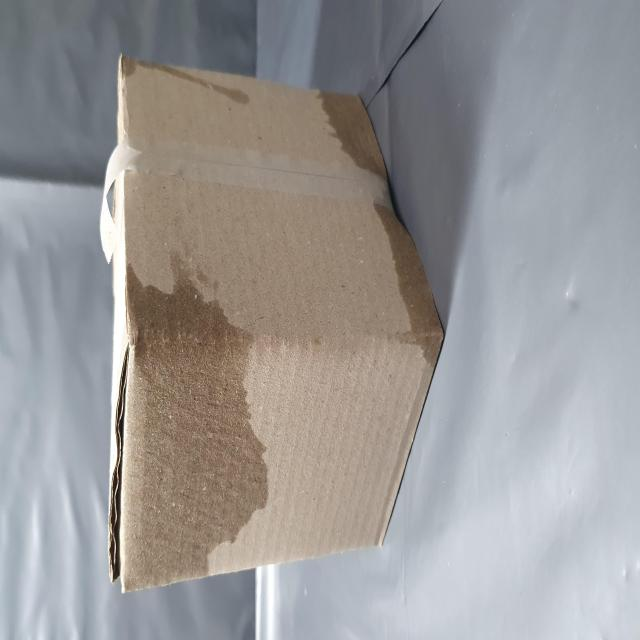wet: (36, 198, 209, 497), (267, 570, 310, 640)
